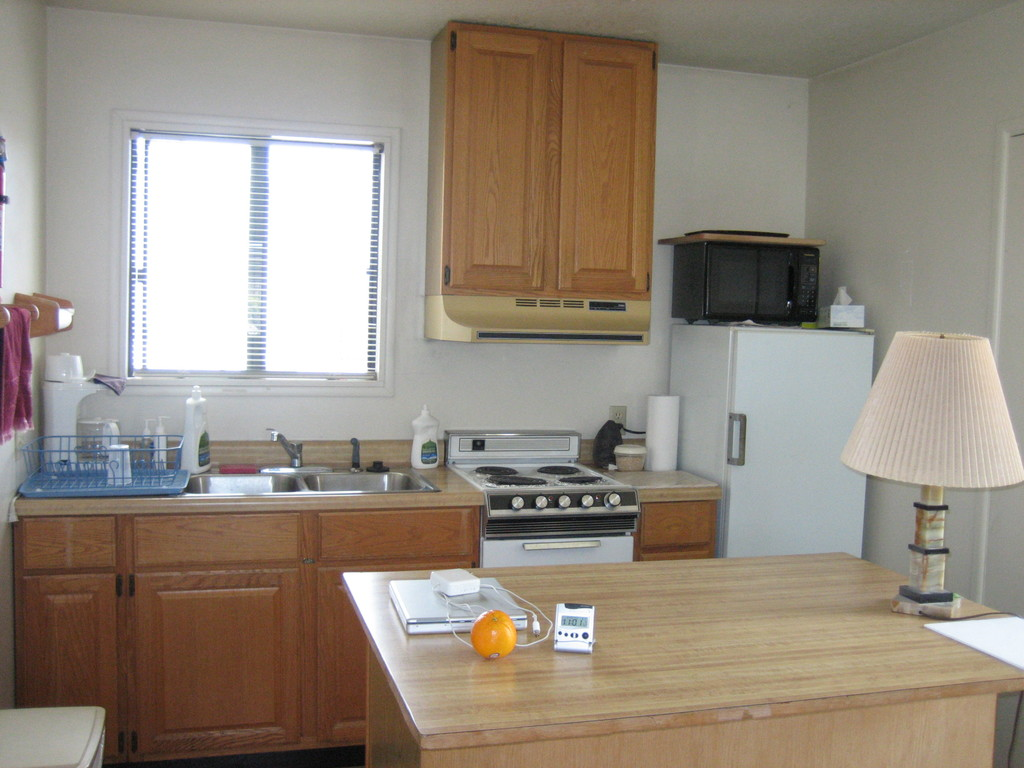cabinet door: (141, 580, 303, 736), (453, 28, 550, 288), (570, 45, 650, 288), (22, 578, 122, 698), (26, 522, 122, 566)
handle: (731, 413, 746, 465)
refrigerator door: (735, 332, 852, 540)
